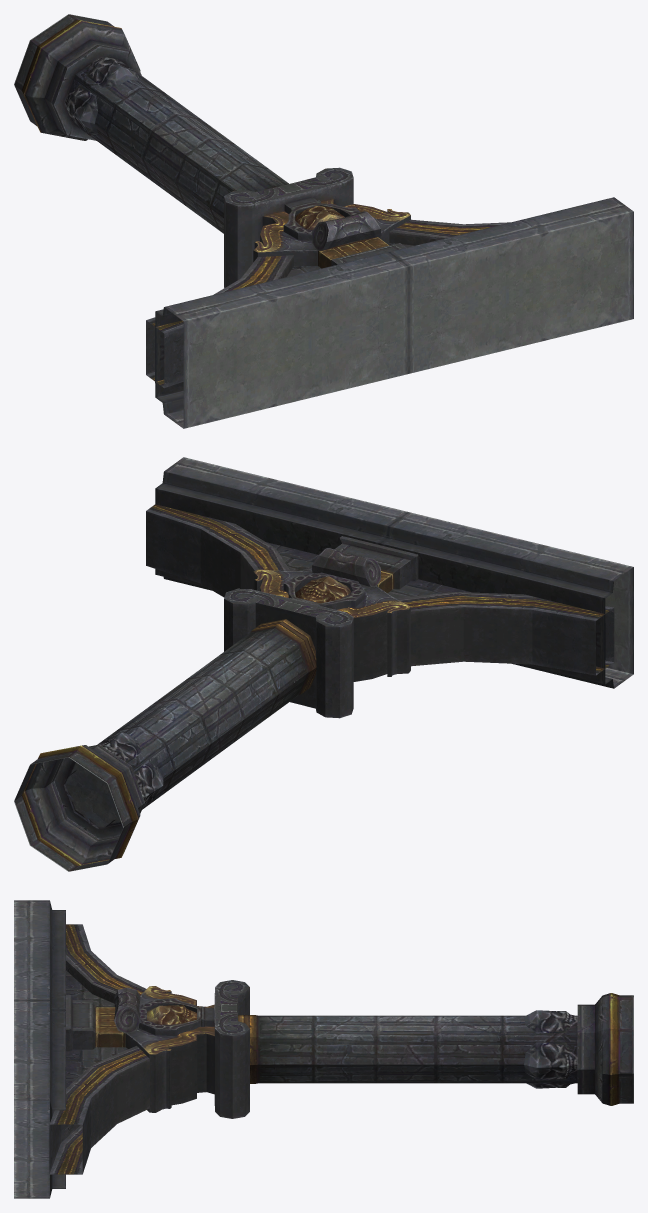
Rendered from huodong_fuben_647_zhuzi04.obj.
3 views of the same model, one above another, from view 1: azimuth 30°, elevation 25°; view 2: azimuth 150°, elevation 25°; view 3: azimuth 270°, elevation 25° (orthographic). The views are drawn at different scales.
Parts seen in each view (by area): view 1: huodong_fuben_647_zhuzi04; view 2: huodong_fuben_647_zhuzi04; view 3: huodong_fuben_647_zhuzi04.
Boxes of the visible parts, left/top/right/bottom form: huodong_fuben_647_zhuzi04: left=14, top=14, right=633, bottom=428; huodong_fuben_647_zhuzi04: left=14, top=457, right=633, bottom=871; huodong_fuben_647_zhuzi04: left=14, top=900, right=633, bottom=1198.
Bounding box in the file's own units: 527 × 134 × 689.
Materials: 1 (1 with a texture image).
